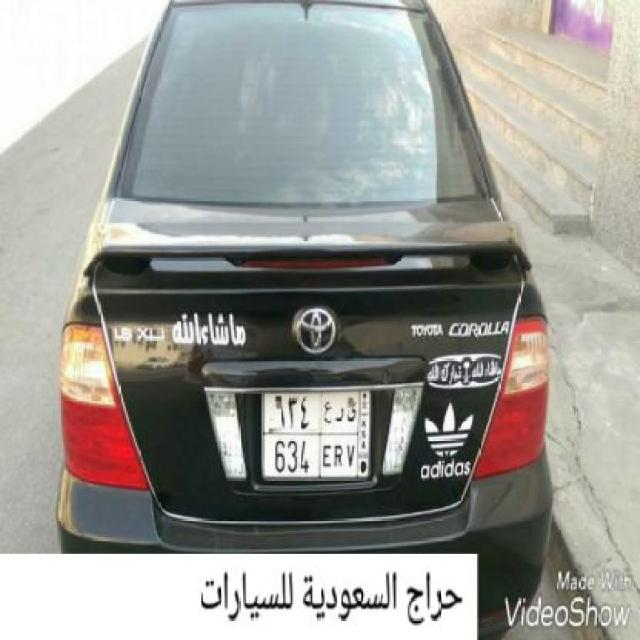license_plate: (261, 388, 373, 483)
